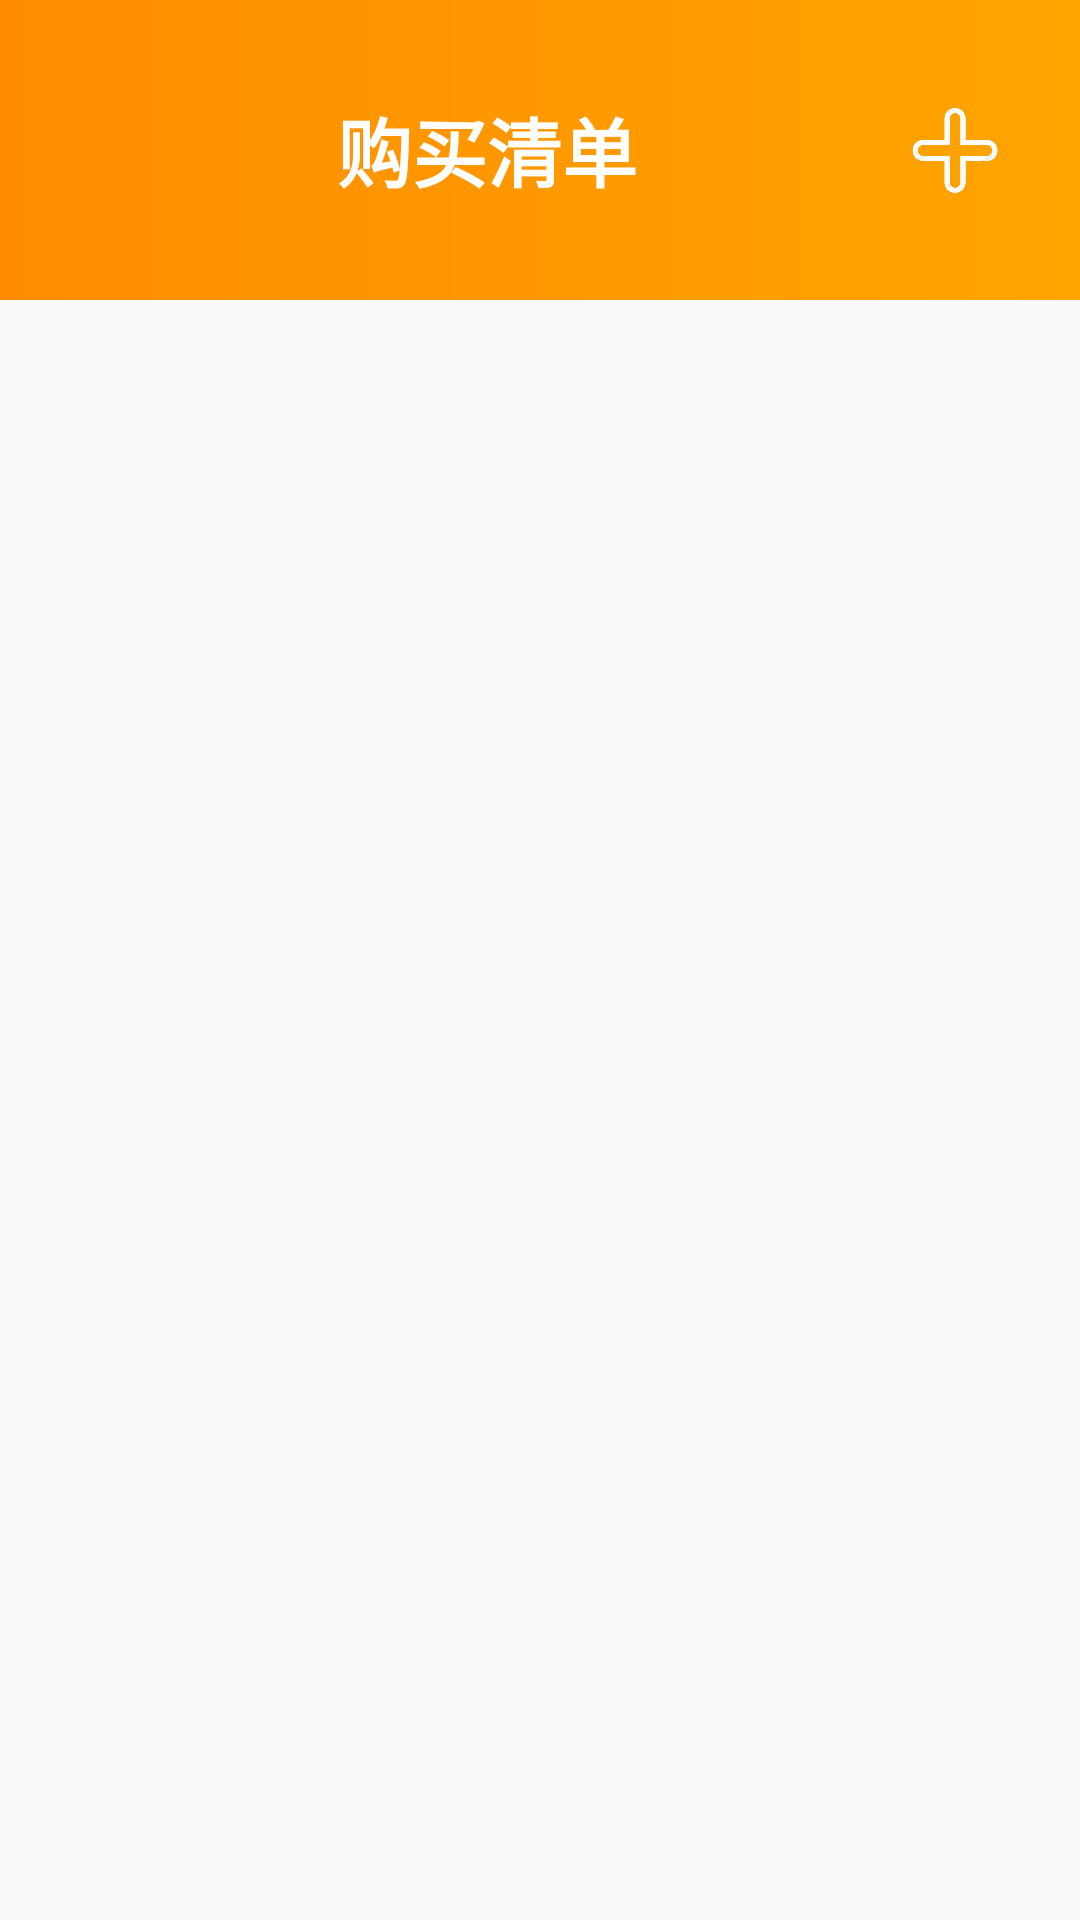

Screen size 1080 × 1920. Icon name, then its center in pixels as point (x, y):
add: point (955, 150)
